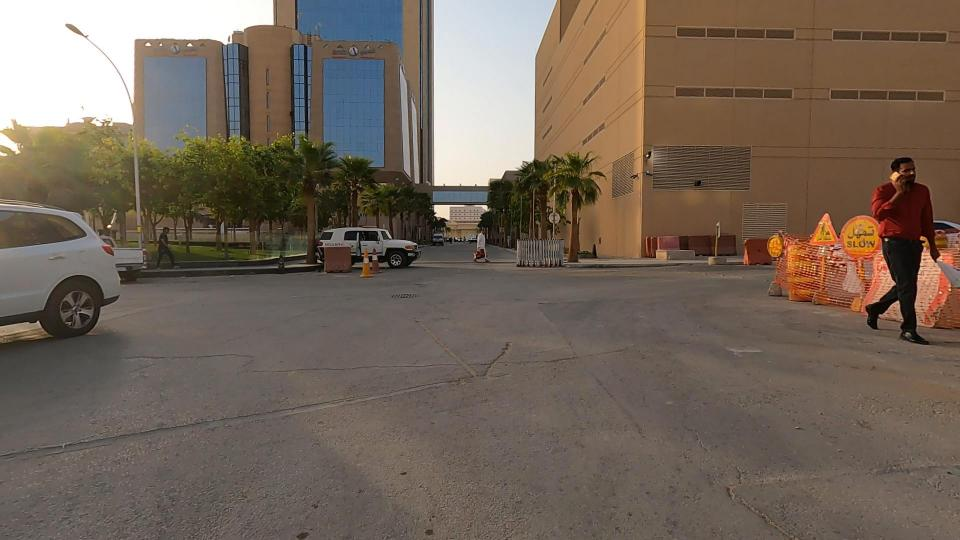CONSTRUCTION_ROAD: (584, 104, 960, 412)
FADED_SIGNAGE: (769, 185, 865, 279), (812, 195, 913, 274)
POTHOLES: (324, 282, 601, 445), (13, 367, 257, 508), (144, 361, 437, 451)
